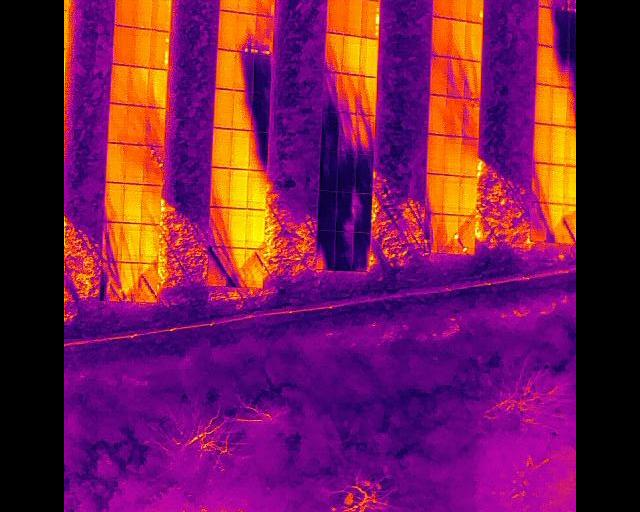Cell: (443, 214, 460, 253), (467, 0, 484, 23)
Cell-Multi: (149, 30, 170, 69), (459, 214, 477, 254), (361, 0, 380, 37)
No-Anomaly: (218, 9, 239, 49), (246, 207, 267, 247), (341, 34, 361, 74), (123, 143, 143, 183), (140, 223, 160, 263), (130, 27, 150, 67), (216, 49, 236, 88), (110, 63, 130, 102), (212, 127, 231, 168), (429, 94, 448, 134), (248, 170, 268, 208), (231, 128, 250, 168), (359, 36, 379, 74), (122, 183, 141, 223), (128, 67, 148, 105), (428, 134, 447, 173), (127, 105, 146, 144), (444, 136, 463, 174), (432, 17, 451, 55), (141, 185, 160, 223), (230, 207, 248, 247), (216, 88, 234, 128), (122, 222, 140, 262), (148, 69, 167, 106), (230, 169, 248, 208), (427, 174, 445, 213), (535, 44, 553, 83), (534, 83, 551, 124), (458, 176, 476, 214), (450, 18, 468, 56), (108, 104, 126, 142), (465, 23, 483, 60), (343, 0, 362, 35), (533, 123, 550, 162), (114, 24, 131, 63), (151, 0, 172, 30), (444, 174, 460, 213), (550, 125, 566, 164), (551, 84, 566, 124), (550, 164, 565, 203), (131, 0, 152, 27), (326, 0, 343, 33), (108, 142, 122, 182), (538, 7, 552, 45), (115, 0, 132, 25), (451, 0, 468, 19), (434, 0, 452, 17), (240, 0, 258, 12), (221, 0, 241, 10)
Shadowing: (226, 246, 247, 286), (101, 261, 122, 300), (145, 107, 166, 146), (315, 229, 335, 269), (337, 112, 357, 152), (102, 221, 122, 261), (211, 168, 231, 207), (210, 207, 230, 246), (358, 74, 377, 114), (424, 213, 443, 253), (430, 55, 449, 95), (250, 130, 269, 170), (446, 96, 465, 136), (234, 90, 253, 130), (340, 71, 358, 113), (334, 230, 353, 269), (531, 201, 550, 240), (121, 262, 140, 301), (140, 263, 159, 302), (144, 147, 164, 184), (357, 114, 375, 154), (236, 50, 254, 90), (254, 51, 272, 91), (336, 191, 354, 231), (256, 15, 274, 55), (320, 151, 338, 191), (322, 70, 340, 110), (353, 192, 371, 232), (253, 91, 271, 131), (105, 181, 123, 221), (463, 97, 480, 139), (208, 245, 226, 284), (239, 13, 257, 52), (533, 162, 551, 201), (449, 57, 466, 98), (318, 190, 335, 230), (246, 247, 263, 287), (339, 150, 355, 192), (353, 232, 371, 269), (356, 154, 373, 192), (321, 110, 337, 150), (461, 137, 477, 177), (553, 45, 568, 86), (326, 32, 342, 70), (549, 203, 565, 241), (465, 60, 481, 98), (552, 9, 567, 45), (257, 0, 276, 15), (554, 0, 569, 9)
